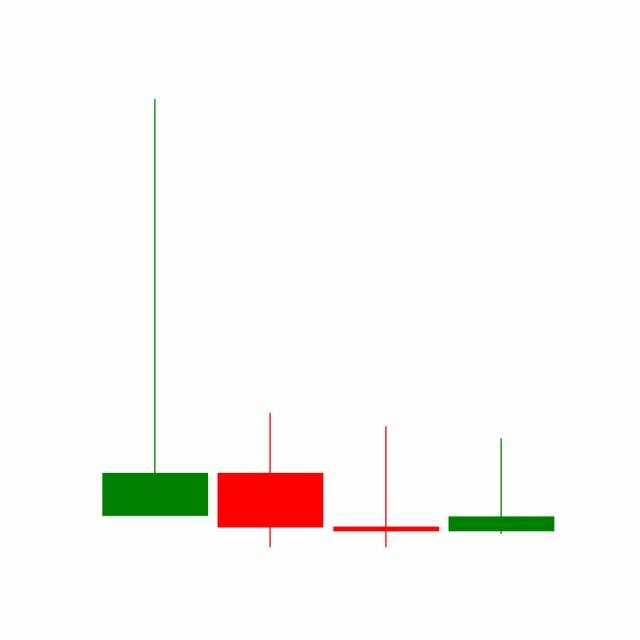Gravestone Doji: (444, 438, 560, 536)
